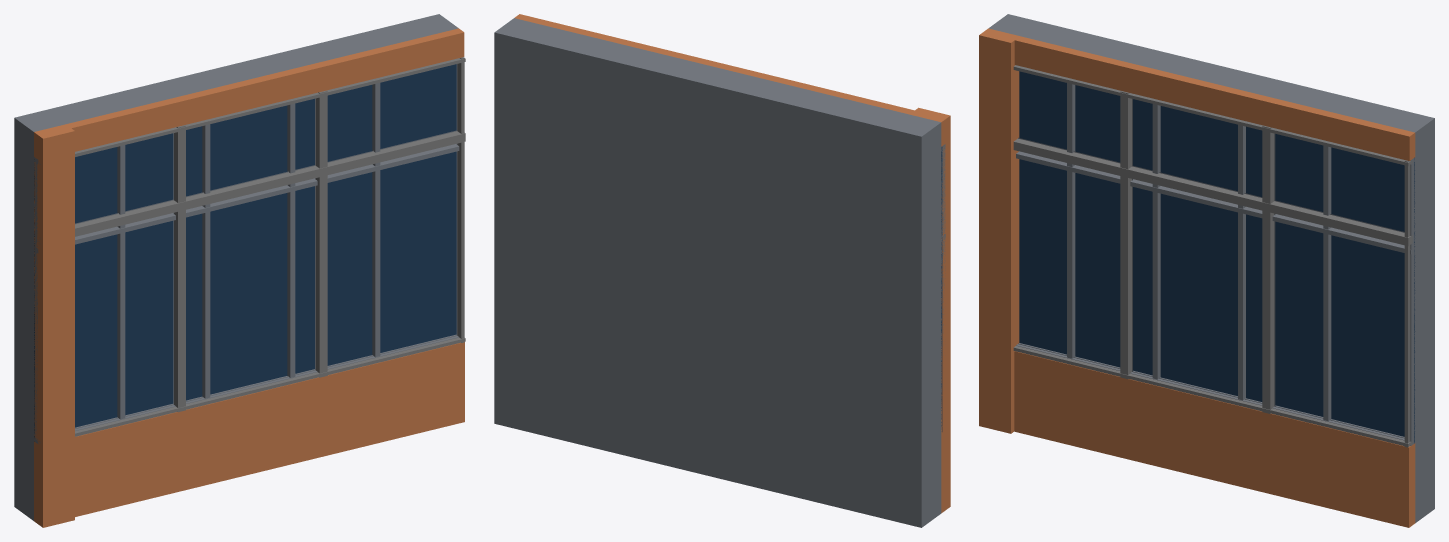
File: mid-w1_close.fbx
The picture shows the model from 3 angles, left to right: view 1: azimuth 30°, elevation 25°; view 2: azimuth 150°, elevation 25°; view 3: azimuth 330°, elevation 25°; orthographic projection.
Parts seen in each view (by area): view 1: a2002/0/mid-w1.001; view 2: a2002/0/mid-w1.001; view 3: a2002/0/mid-w1.001.
Boxes of the visible parts, <box> form: a2002/0/mid-w1.001: <box>14,14,465,527</box>; a2002/0/mid-w1.001: <box>494,14,950,527</box>; a2002/0/mid-w1.001: <box>979,14,1434,527</box>.
Bounding box in the file's own units: 4 × 3.5 × 0.47.
